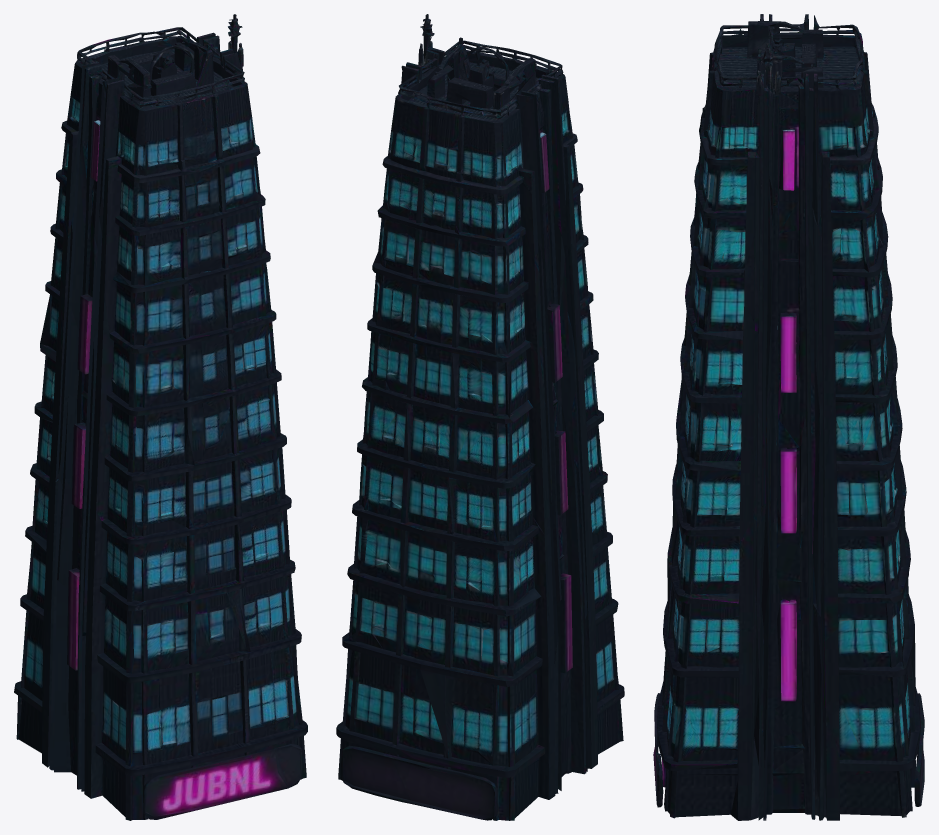
File: cyber-tower-tall.glb
3 views of the same model, side by side, from view 1: azimuth 30°, elevation 25°; view 2: azimuth 150°, elevation 25°; view 3: azimuth 270°, elevation 25° (orthographic). The views are drawn at different scales.
Parts seen in each view (by area): view 1: mesh_node; view 2: mesh_node; view 3: mesh_node.
Part boxes in pixels (bbox=[...]): mesh_node: bbox=[14, 14, 307, 820]; mesh_node: bbox=[336, 14, 624, 820]; mesh_node: bbox=[653, 14, 924, 820].
Bounding box in the file's own units: 0.5152 × 1.9 × 0.612.
Materials: 1 (1 with a texture image).
